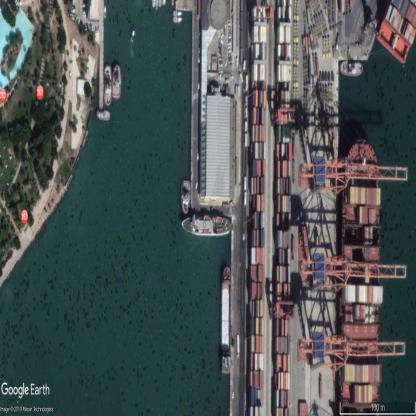ship: (220, 264, 232, 374), (182, 215, 232, 236), (113, 62, 122, 102), (180, 179, 190, 214), (103, 64, 111, 107), (95, 110, 111, 122), (130, 28, 136, 47), (172, 10, 181, 17), (173, 17, 182, 22), (104, 6, 107, 20)
